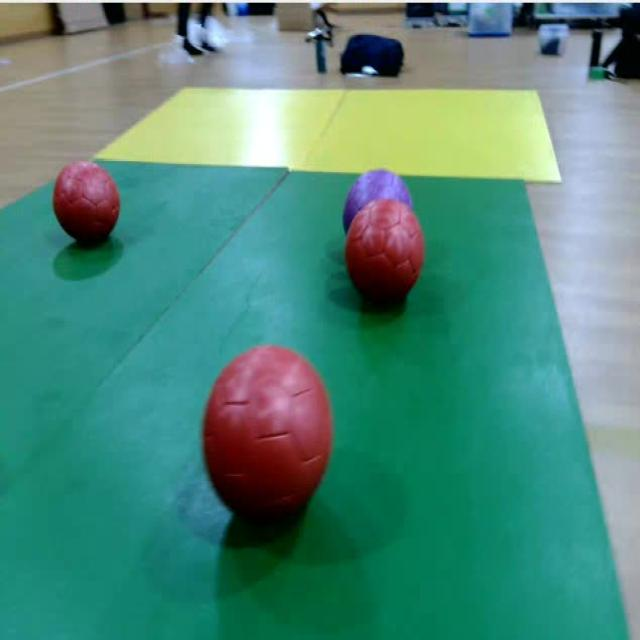purple_ball: (344, 168, 412, 200)
red_ball: (196, 339, 338, 534), (354, 202, 429, 313), (53, 158, 123, 250)
